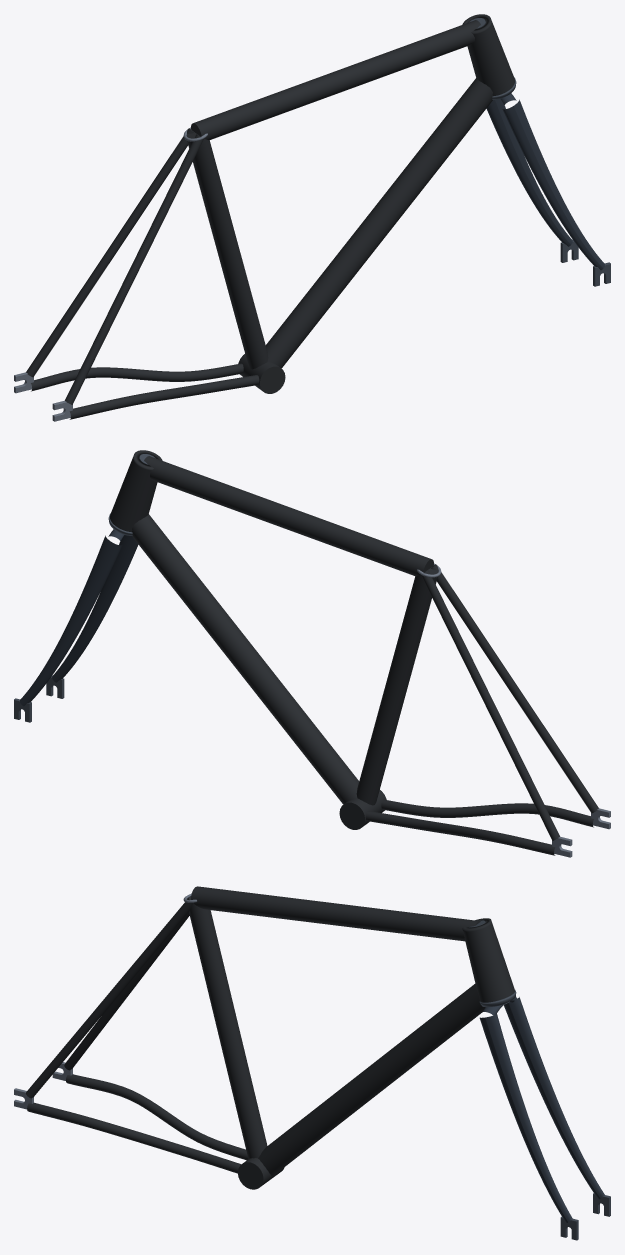
Rendered from 8bar-krzberg-v8-s.glb.
3 views of the same model, one above another, from view 1: azimuth 30°, elevation 25°; view 2: azimuth 150°, elevation 25°; view 3: azimuth 330°, elevation 25° (orthographic).
Visible parts, largest first — view 1: paint_down, paint_top, paint_seat, paint_seatstay_1, fork_blade_1, paint_seatstay_-1, paint_head, fork_blade_-1, paint_chainstay_-1, paint_chainstay_1, paint_bottom_bracket; view 2: paint_down, paint_top, paint_seat, paint_seatstay_-1, fork_blade_-1, paint_seatstay_1, paint_head, fork_blade_1, paint_chainstay_1, paint_chainstay_-1, paint_bottom_bracket; view 3: paint_down, paint_top, paint_seat, fork_blade_1, fork_blade_-1, paint_head, paint_seatstay_1, paint_chainstay_1, paint_chainstay_-1, paint_seatstay_-1, paint_bottom_bracket.
Part boxes in pixels (bbox=[...]): paint_down: bbox=[266, 78, 492, 368]; paint_top: bbox=[191, 20, 480, 140]; paint_seat: bbox=[186, 131, 268, 369]; paint_seatstay_1: bbox=[65, 134, 203, 404]; fork_blade_1: bbox=[502, 99, 604, 270]; paint_seatstay_-1: bbox=[26, 128, 193, 377]; paint_head: bbox=[462, 14, 514, 96]; fork_blade_-1: bbox=[486, 99, 572, 246]; paint_chainstay_-1: bbox=[31, 363, 243, 391]; paint_chainstay_1: bbox=[69, 375, 259, 419]; paint_bottom_bracket: bbox=[238, 354, 285, 393]; paint_down: bbox=[132, 514, 358, 804]; paint_top: bbox=[144, 456, 433, 576]; paint_seat: bbox=[356, 567, 438, 805]; paint_seatstay_-1: bbox=[421, 570, 559, 840]; fork_blade_-1: bbox=[20, 535, 122, 706]; paint_seatstay_1: bbox=[431, 564, 598, 813]; paint_head: bbox=[110, 450, 162, 532]; fork_blade_1: bbox=[52, 535, 138, 682]; paint_chainstay_1: bbox=[381, 799, 593, 827]; paint_chainstay_-1: bbox=[365, 811, 555, 855]; paint_bottom_bracket: bbox=[339, 790, 386, 829]; paint_down: bbox=[258, 983, 485, 1175]; paint_top: bbox=[191, 886, 480, 941]; paint_seat: bbox=[187, 896, 267, 1158]; fork_blade_1: bbox=[479, 1013, 572, 1222]; fork_blade_-1: bbox=[504, 997, 604, 1199]; paint_head: bbox=[462, 918, 514, 1002]; paint_seatstay_1: bbox=[26, 896, 193, 1098]; paint_chainstay_1: bbox=[27, 1102, 241, 1173]; paint_chainstay_-1: bbox=[66, 1074, 248, 1160]; paint_seatstay_-1: bbox=[64, 912, 189, 1070]; paint_bottom_bracket: bbox=[238, 1158, 284, 1189].
Size of the model in its own units: 1 by 0.5363 by 0.1397.
